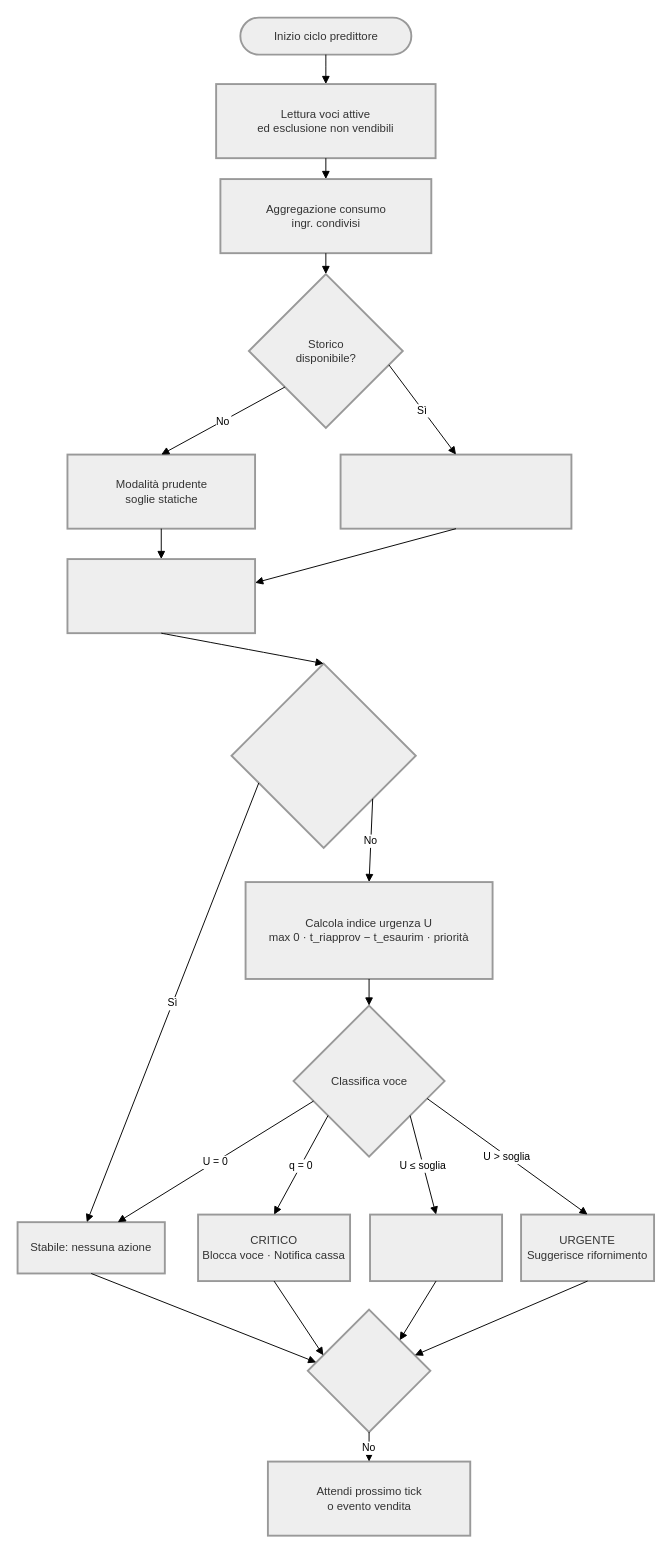
The diagram is 671 pixels wide and 1552 high, and some of its shapes have lost their labels. The centre of each missing label's shape, as x and y in pixels:
"Altre voci?" goes at [368,1370].
"ATTENZIONE Notifica dashboard" goes at [436,1247].
"Calcola consumo_atteso e tempo_esaurimento" goes at [161,596].
"Calcola pesi α β γ modalità normale o picco" goes at [455,491].
"consumo_atteso ≤ 0?" goes at [323,755].
